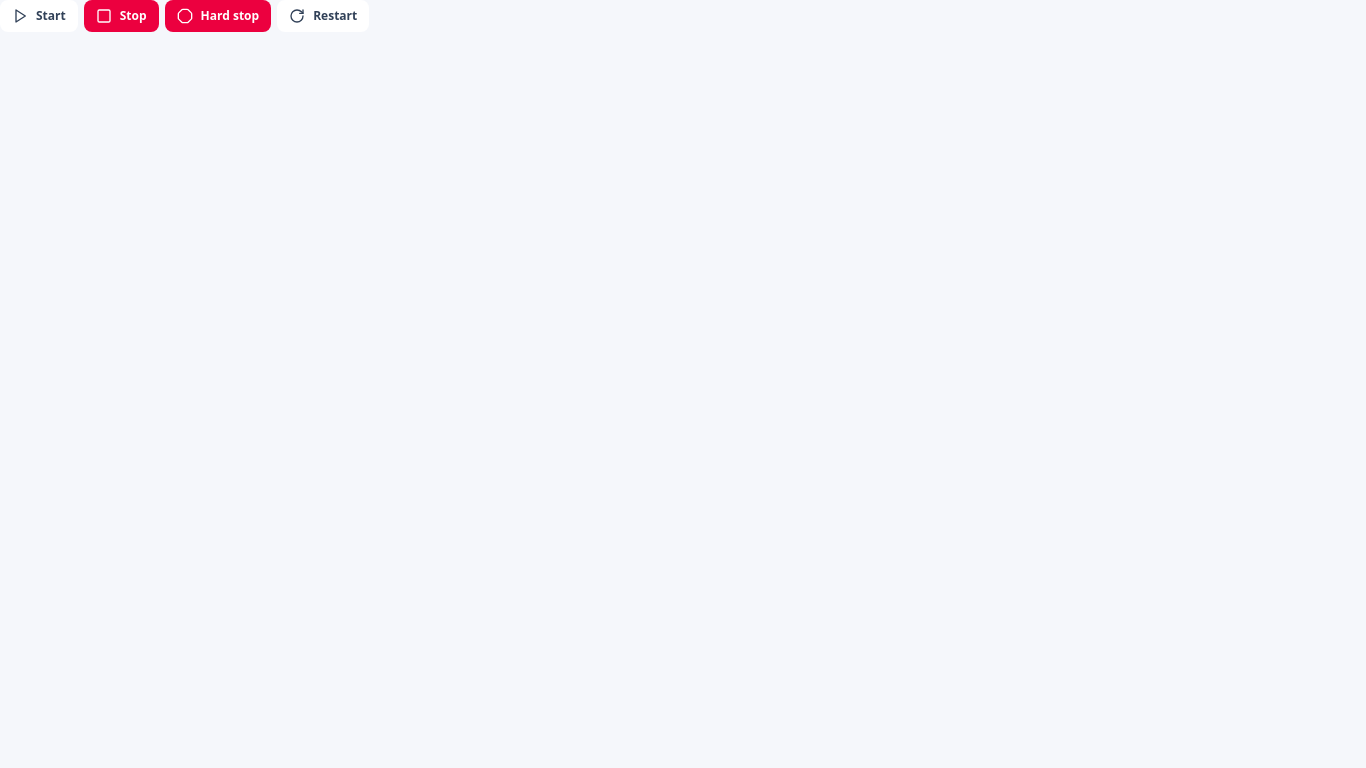
Test: verified server controls › shows UUID and downtime warning, disables invalid state, and submits only once
The image size is (1366, 768).
Click the button "Stop" at coordinates (121, 16), box [84, 0, 159, 32]
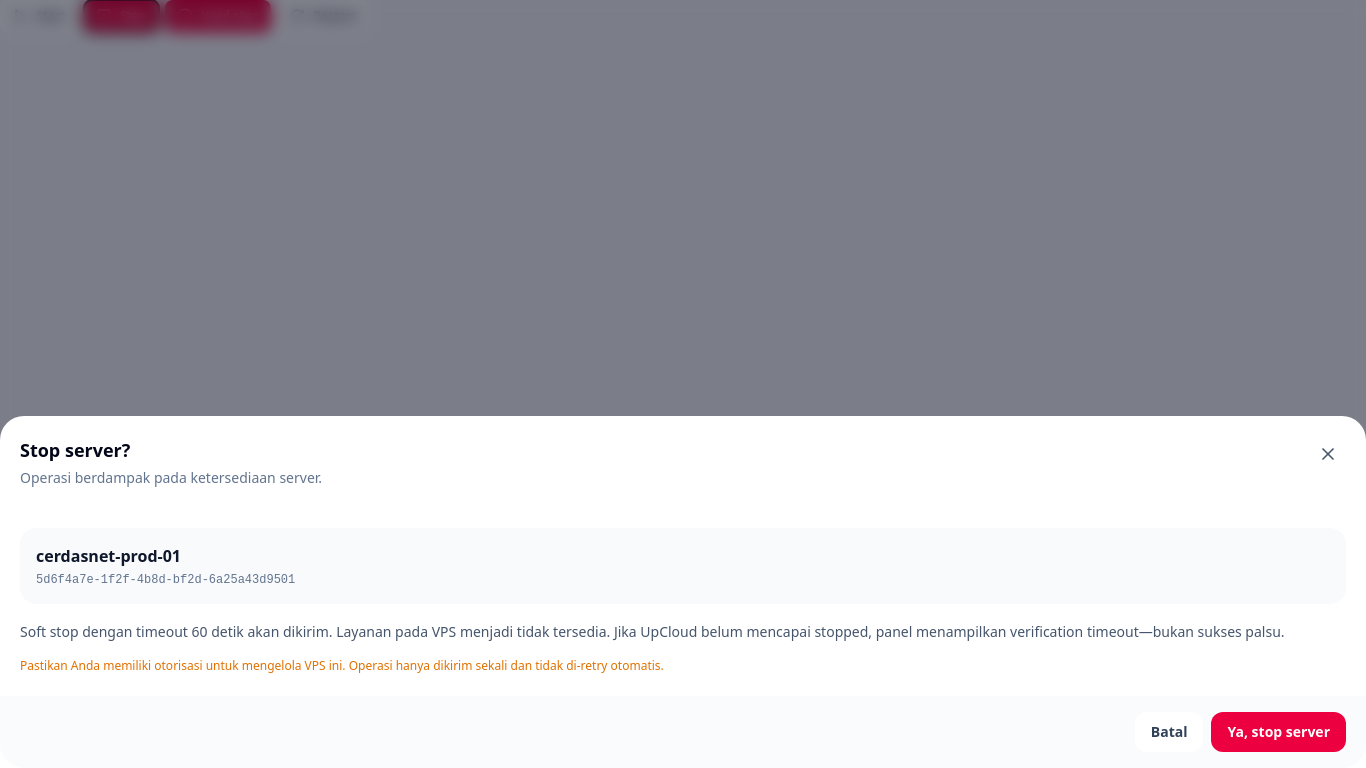
expect the dialog shows "5d6f4a7e-1f2f-4b8d-bf2d-6a25a43d9501": met, box [36, 573, 295, 587]
expect the dialog shows "Layanan pada VPS menjadi tidak tersedia": met, box [20, 622, 1285, 641]
Double-click the button "Ya, stop server" at coordinates (1279, 732), box [1212, 712, 1346, 752]
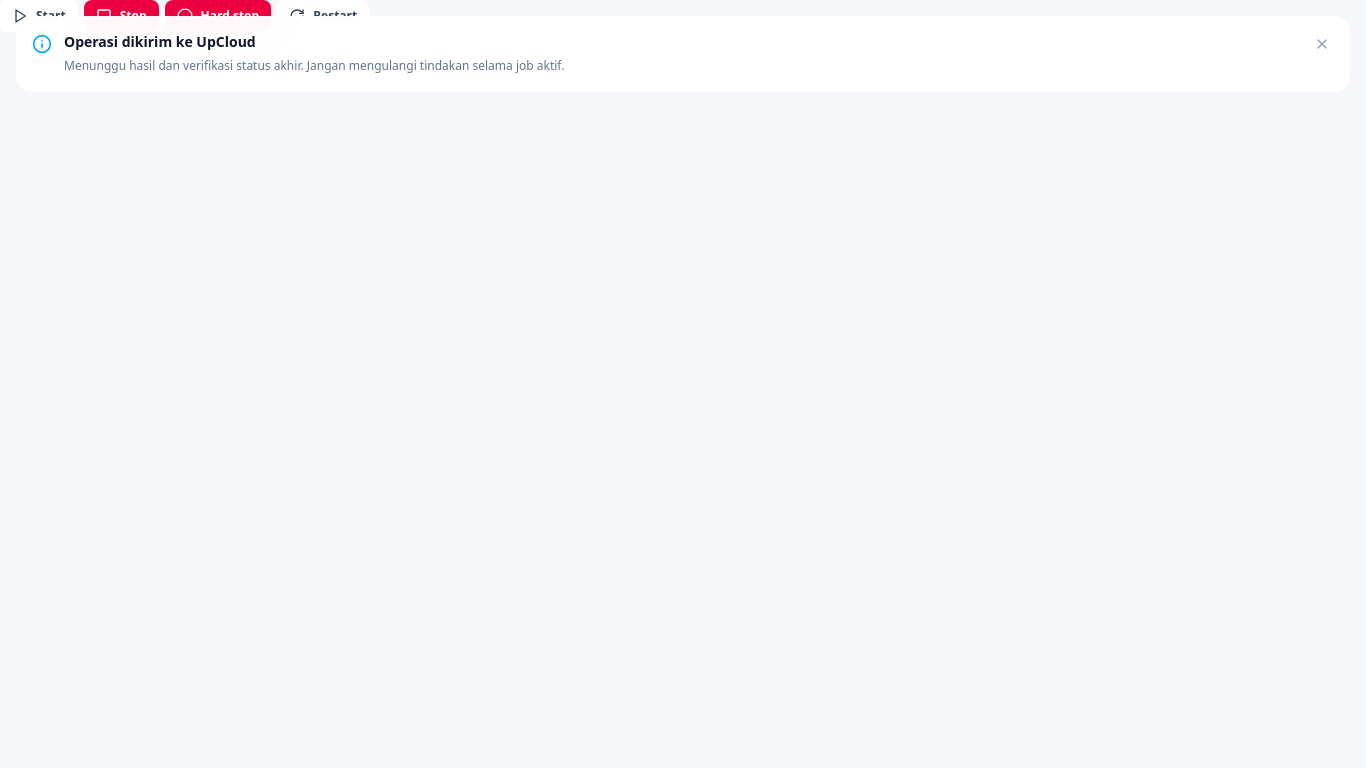
expect the dialog is gone: met
expect the text "Operasi dikirim ke UpCloud" is shown: met, box [64, 32, 256, 51]
